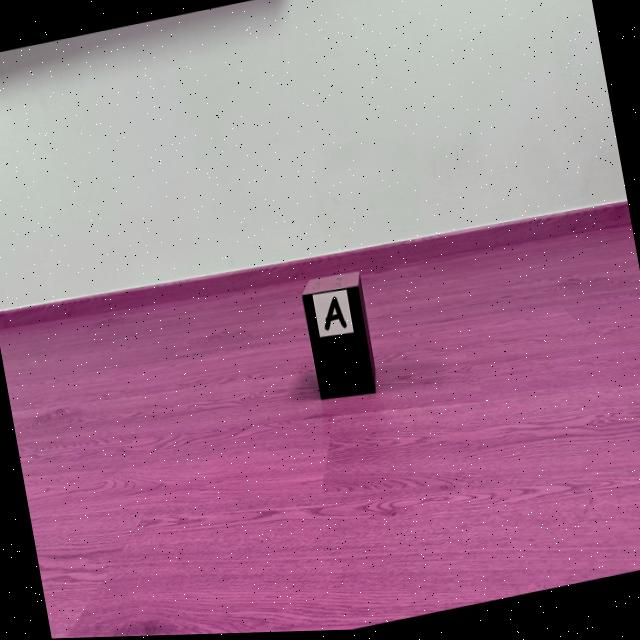A: (324, 298, 347, 333)
